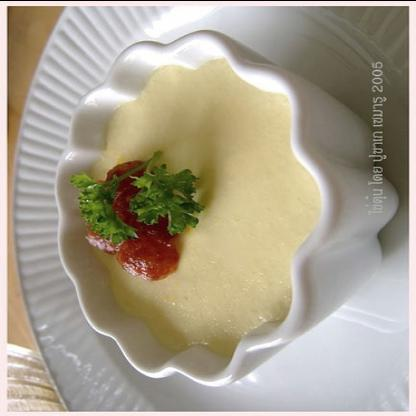Kaithoon: (70, 34, 344, 370)
